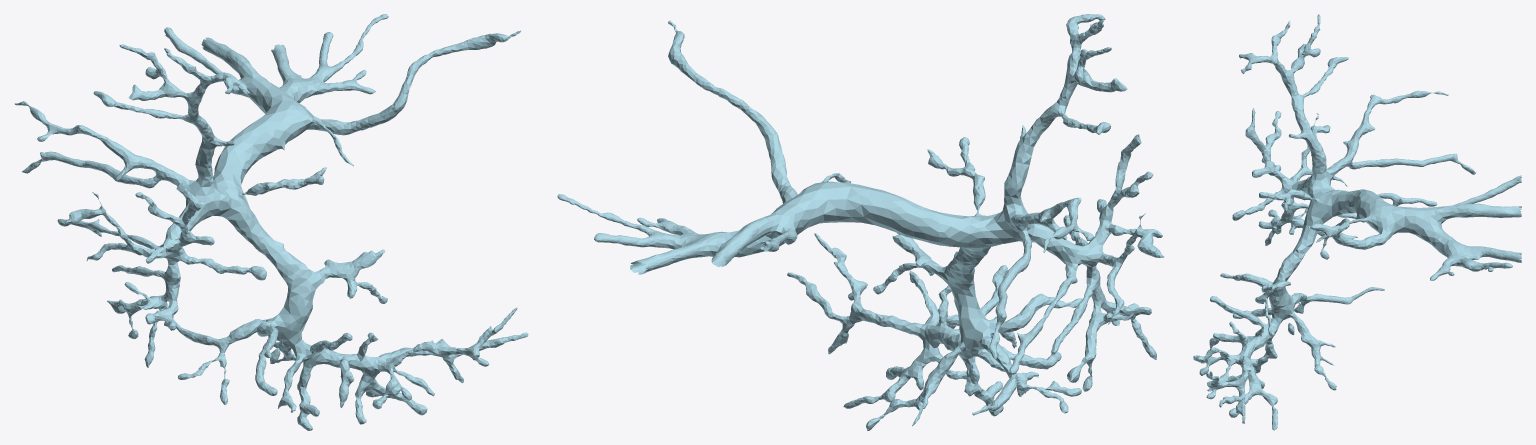
Rendered from portalvein.obj.
3 views of the same model, side by side, from view 1: azimuth 30°, elevation 25°; view 2: azimuth 150°, elevation 25°; view 3: azimuth 270°, elevation 25° (orthographic). The views are drawn at different scales.
Visible parts, largest first — view 1: grp1; view 2: grp1; view 3: grp1.
Part boxes in pixels (x1=…): grp1: x1=14, y1=14, x2=528, y2=430; grp1: x1=557, y1=14, x2=1164, y2=430; grp1: x1=1193, y1=14, x2=1521, y2=430.
Size of the model in its own units: 198 by 172 by 161.
